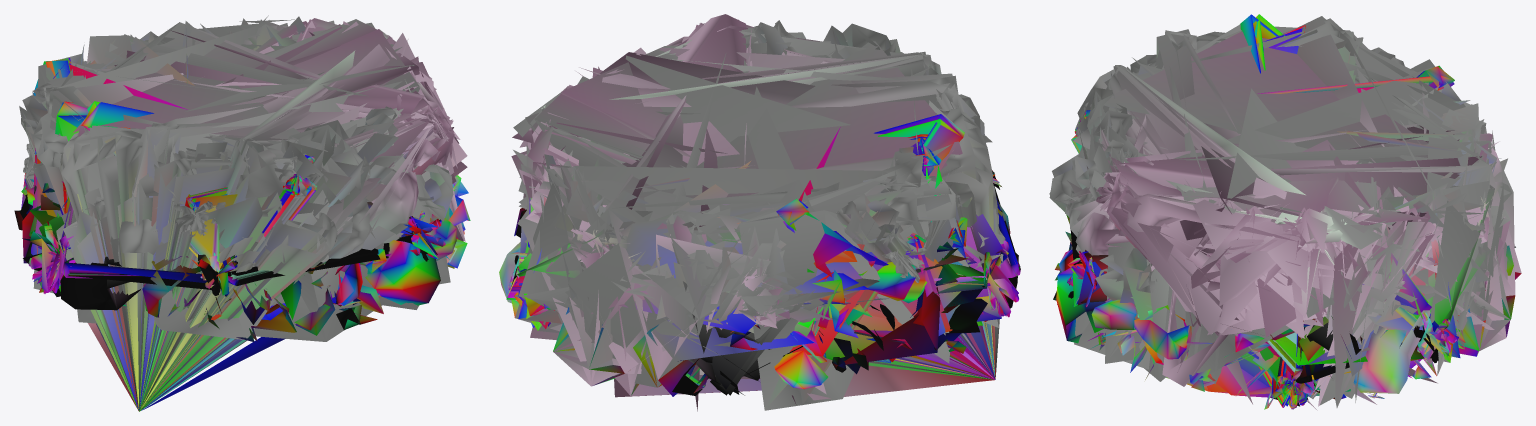
3 views of the same model, side by side, from view 1: azimuth 30°, elevation 25°; view 2: azimuth 150°, elevation 25°; view 3: azimuth 270°, elevation 25° (orthographic). The views are drawn at different scales.
Visible parts, largest first — view 1: Well1; view 2: Well1; view 3: Well1.
Boxes of the visible parts, x1,y1,x2,y2 form: Well1: (14, 15, 470, 411); Well1: (499, 14, 1020, 411); Well1: (1049, 14, 1521, 410).
Size of the model in its own units: 1.36 by 0.8364 by 1.24.
